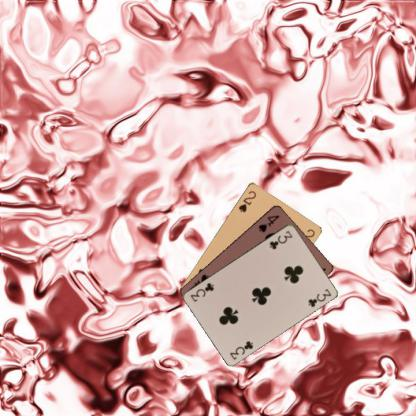2s: (236, 188, 257, 213)
3c: (227, 338, 254, 361), (267, 228, 293, 251)
4s: (256, 212, 281, 233)
